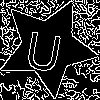U: (22, 22, 66, 74)
